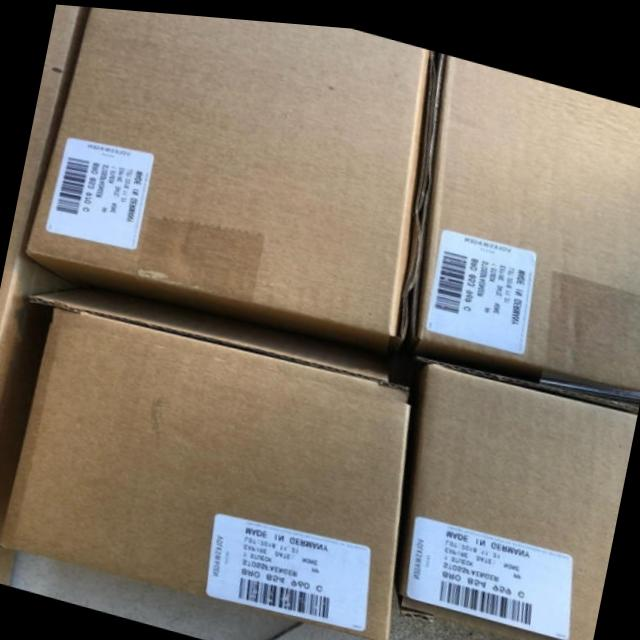box: (25, 6, 445, 375), (0, 309, 412, 638), (416, 49, 640, 388), (387, 353, 639, 640)
